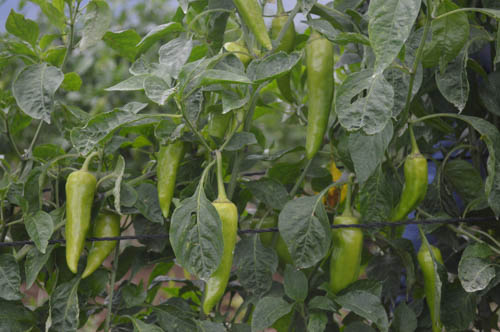ChiliPepper: (204, 201, 245, 313), (304, 42, 338, 161), (63, 170, 92, 272), (86, 210, 119, 288), (330, 218, 363, 295), (155, 137, 182, 218), (398, 155, 427, 221), (418, 249, 440, 328)
